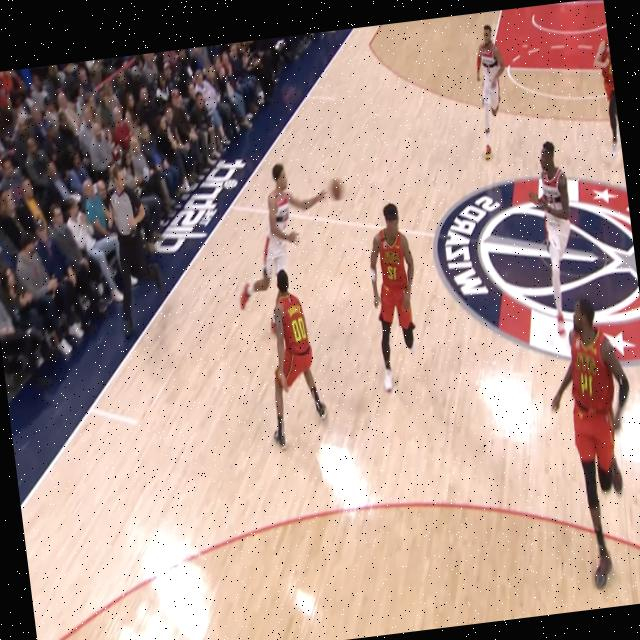no foul: (212, 147, 385, 468)
